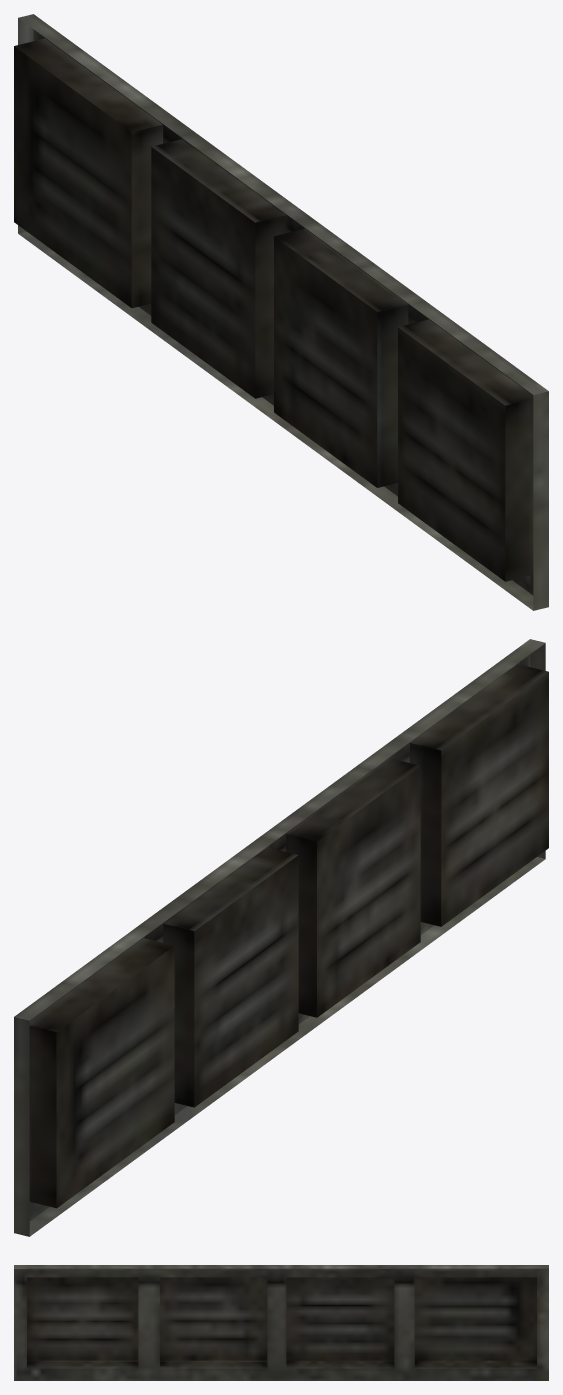
Rendered from VentsWindow_Ground.FBX.
The picture shows the model from 3 angles, top to bottom: view 1: azimuth 30°, elevation 25°; view 2: azimuth 150°, elevation 25°; view 3: azimuth 270°, elevation 25°; orthographic projection. The views are drawn at different scales.
Visible parts, largest first — view 1: VentsWindow_Ground; view 2: VentsWindow_Ground; view 3: VentsWindow_Ground.
Part boxes in pixels (left/top/right/bottom): VentsWindow_Ground: left=14, top=14, right=548, bottom=610; VentsWindow_Ground: left=14, top=639, right=548, bottom=1236; VentsWindow_Ground: left=14, top=1265, right=548, bottom=1380.
Size of the model in its own units: 20 by 132 by 573.
